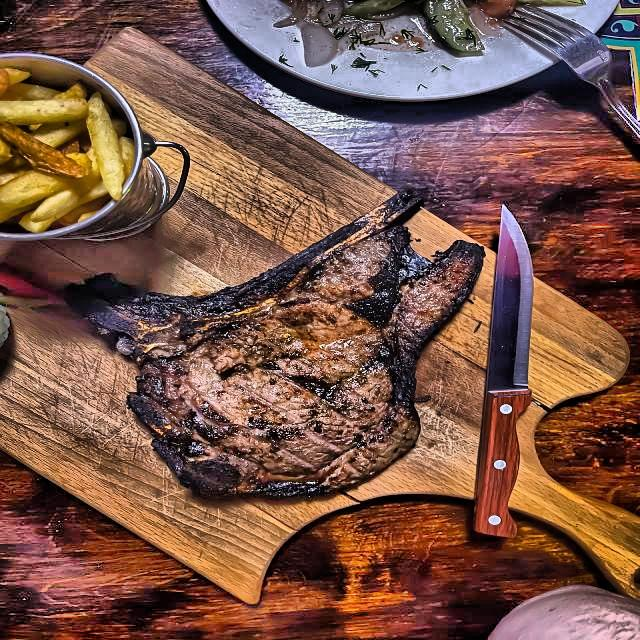knife: (479, 200, 538, 544)
